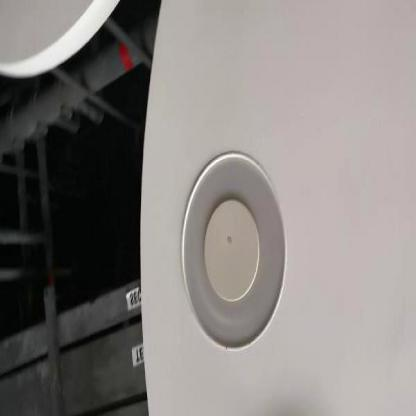light_off: (171, 114, 297, 371)
